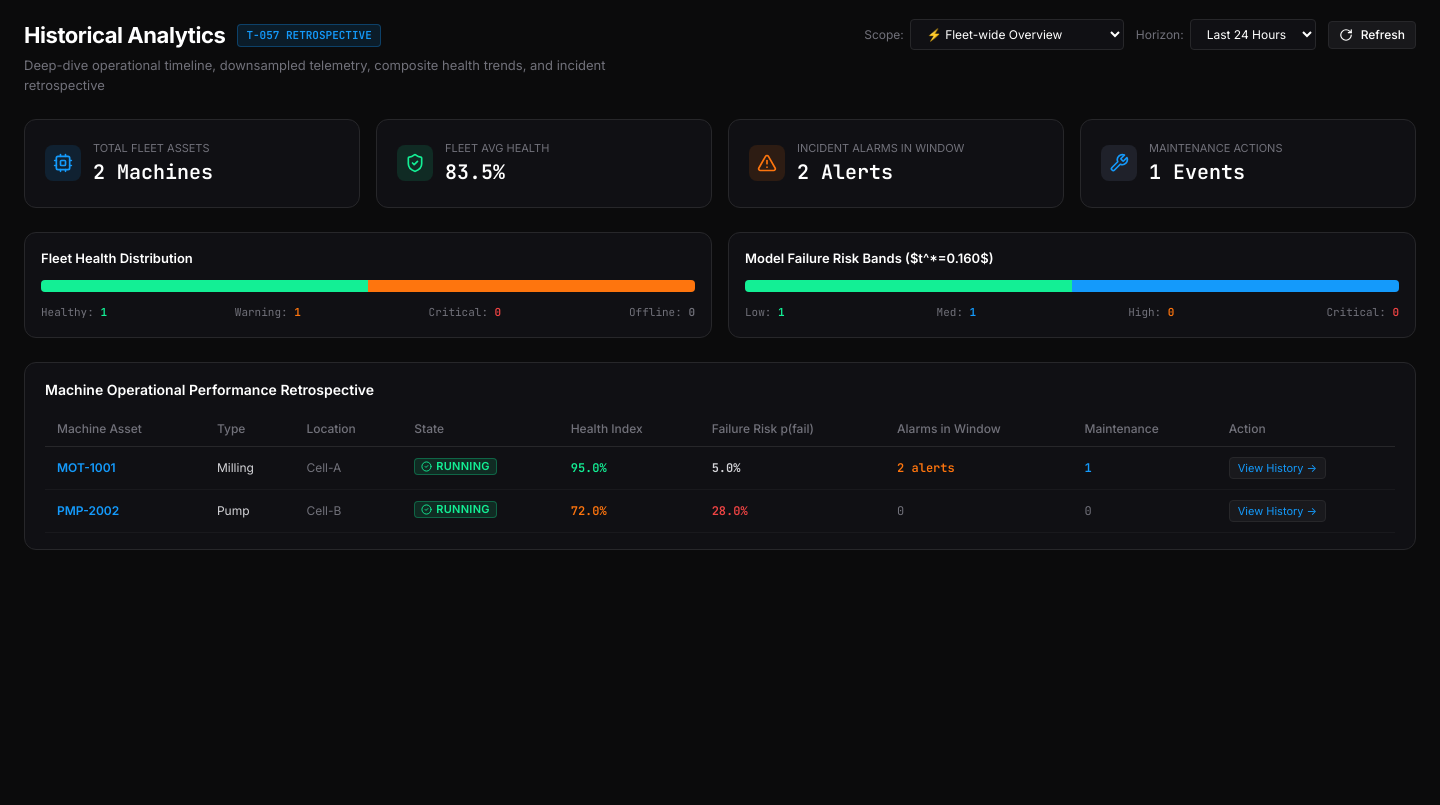
Test: HistoryPage & Analytics (T-057) › renders truthful empty states when a machine has no history recorded
Select "PMP-2002 — Pump (ACTIVE)" in the dropdown labelled "Scope:" at (1017, 34), box [910, 19, 1124, 50]
(page scrolled)
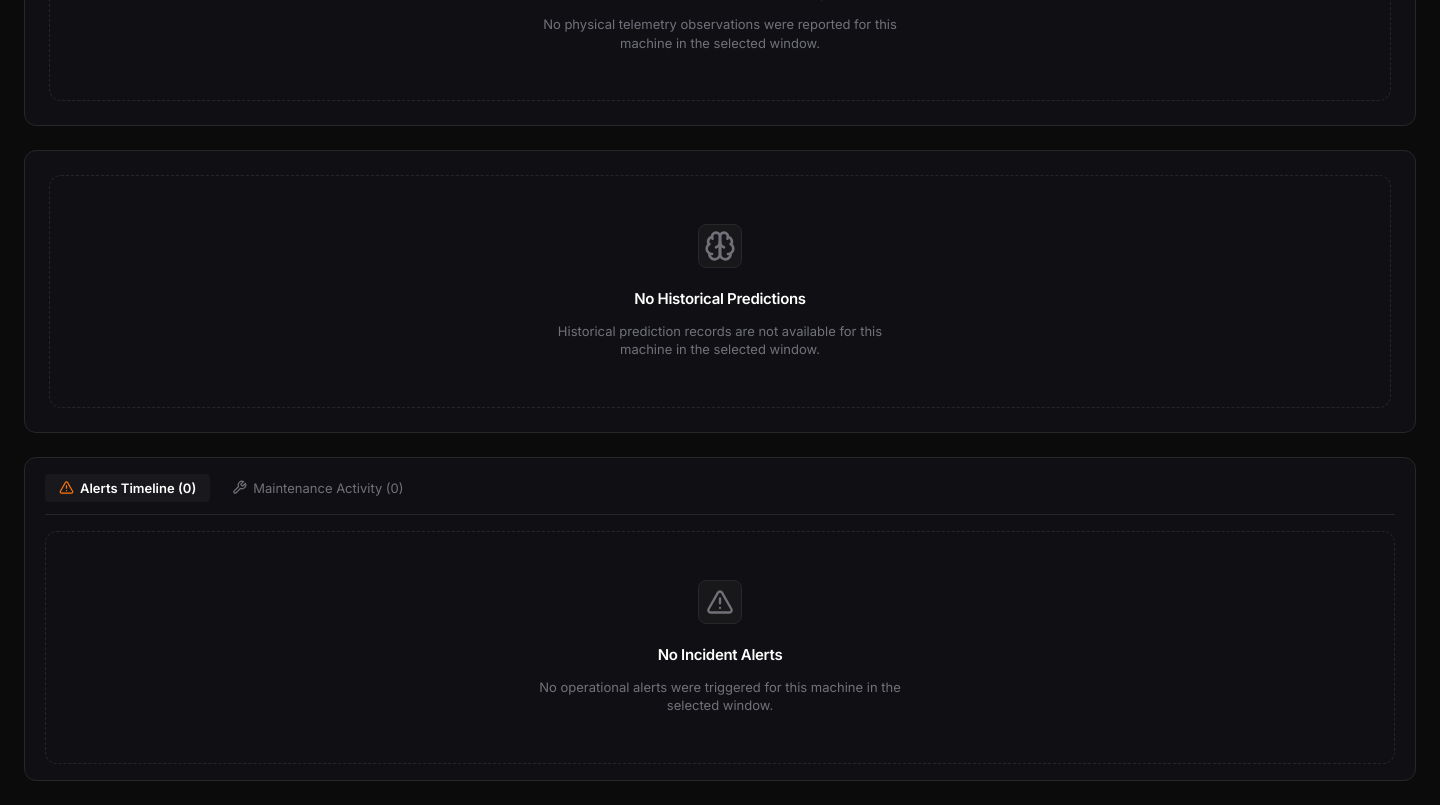
Result: the heading "No Historical Predictions" is shown at [634, 288, 806, 310]
Result: the heading "No Incident Alerts" is shown at [658, 644, 782, 666]
